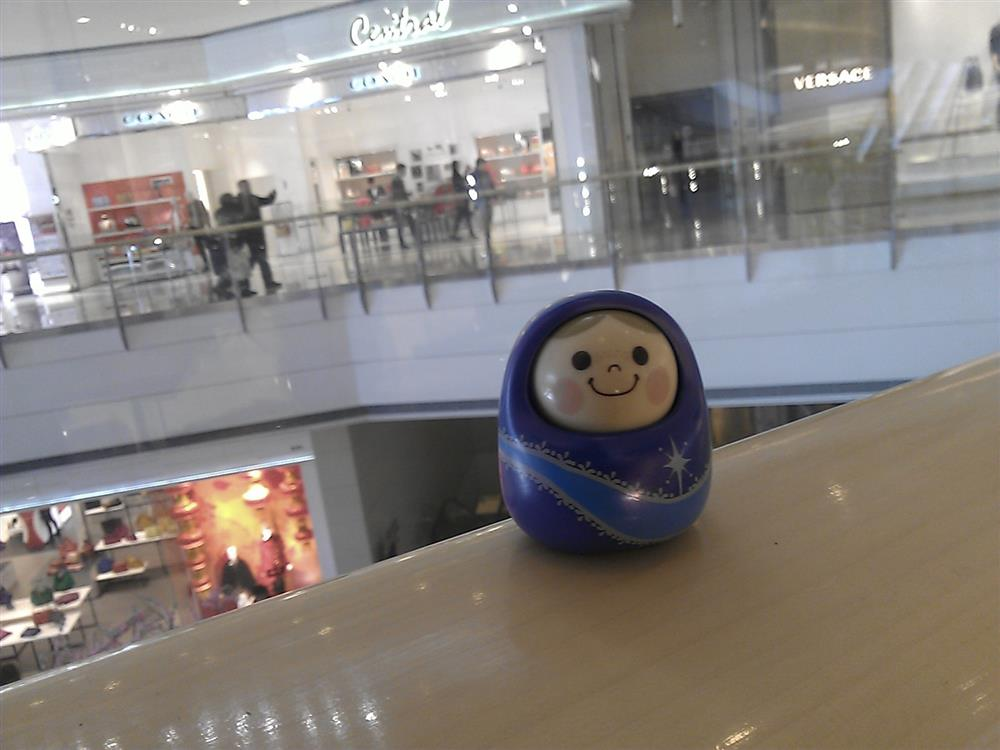matryoshka: (487, 286, 715, 565)
